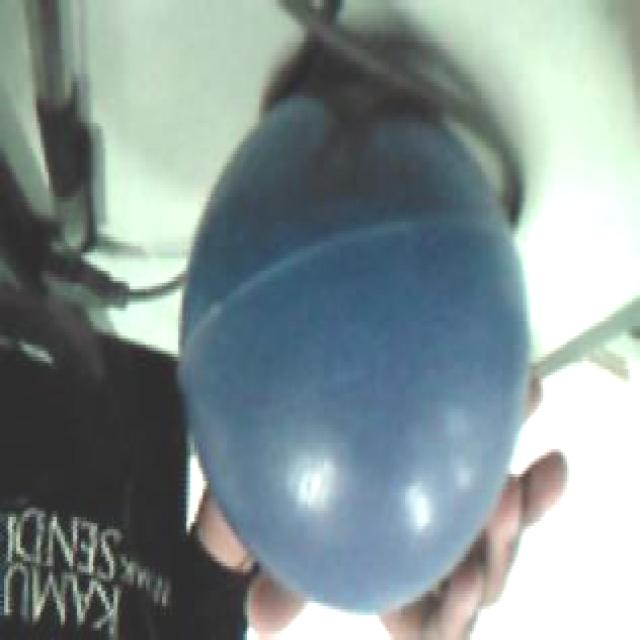BallPurple: (179, 94, 530, 615)
